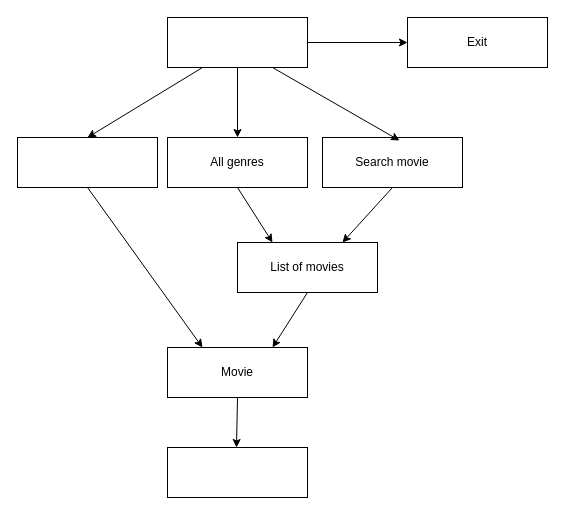
The diagram is 565 pixels wide and 515 high, and some of its shapes have lost their labels. The shapes that lost their labels are listed below. From the top down, each one's box as (x1, y1, x2, y2) in pixels, then its label:
(166, 16, 308, 68): Main Menu
(16, 136, 158, 188): All movies
(166, 446, 308, 498): Reviews
